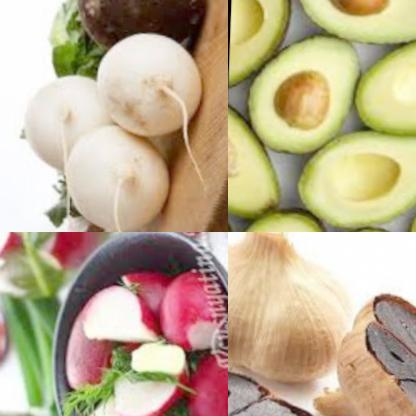avocado: (256, 10, 377, 163), (298, 124, 416, 232), (228, 94, 295, 224), (229, 0, 300, 94), (353, 26, 416, 130), (302, 0, 416, 51), (228, 194, 355, 232), (324, 214, 416, 232)
garlic: (228, 232, 369, 378), (303, 278, 416, 416), (228, 347, 336, 416)
rediska: (58, 250, 228, 416), (30, 232, 95, 267)
redka: (58, 119, 179, 232), (94, 24, 205, 136), (23, 65, 112, 172), (74, 0, 202, 59), (50, 203, 105, 232)
